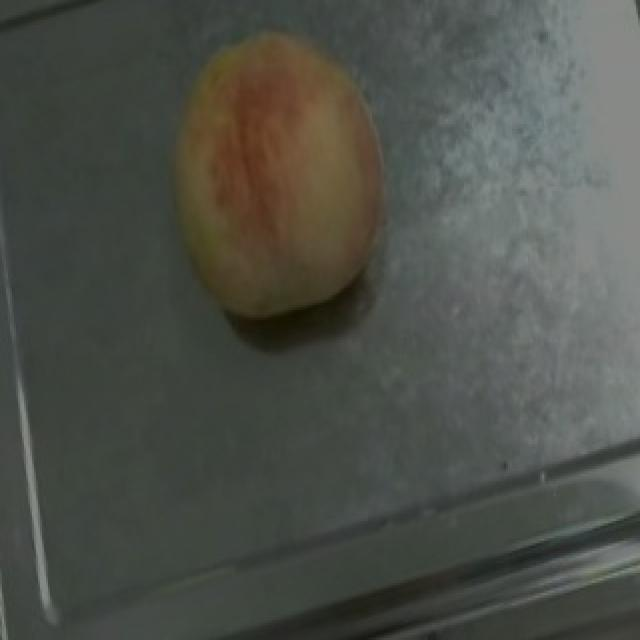Fruit: (126, 0, 430, 350)
